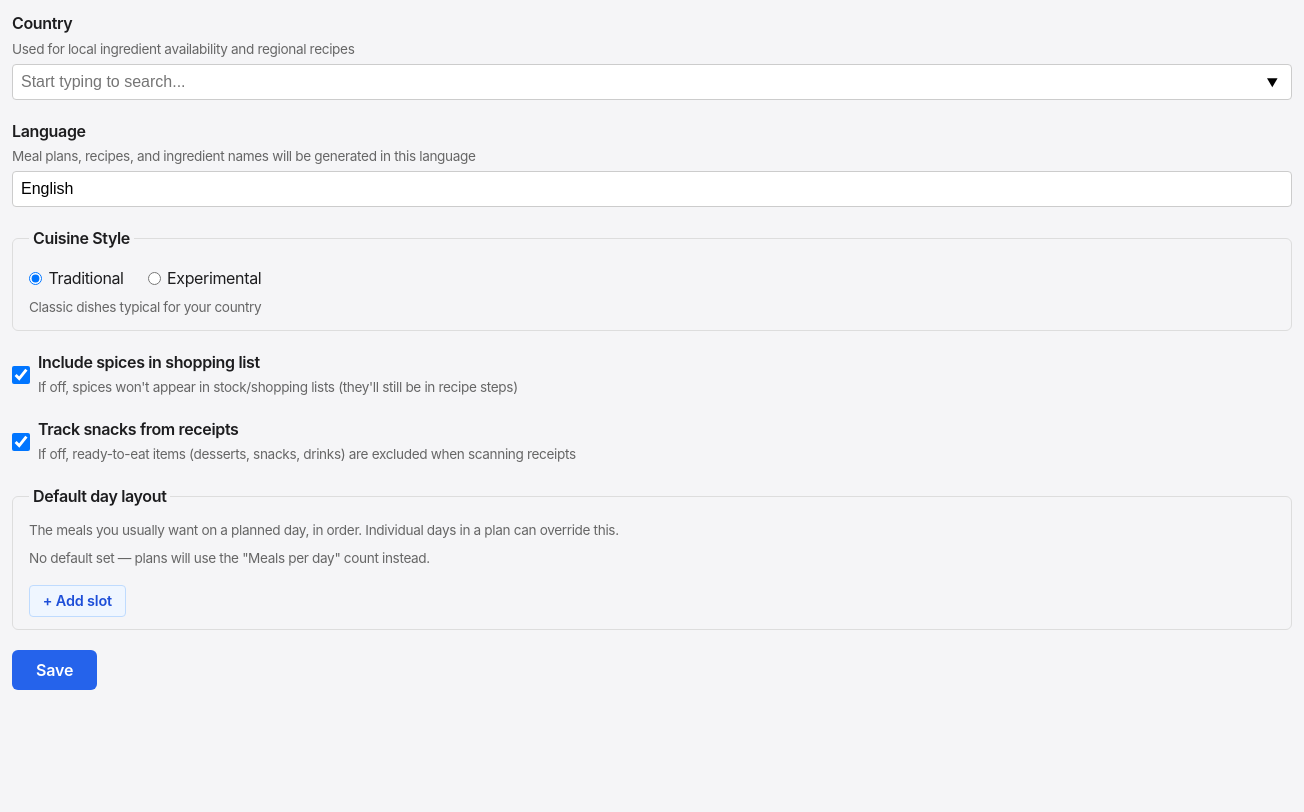
Test: PreferencesForm › Tab completes country from a prefix match
Step 1. Click the field with placeholder "Start typing to search..." → (652, 82), box [12,64,1292,100]
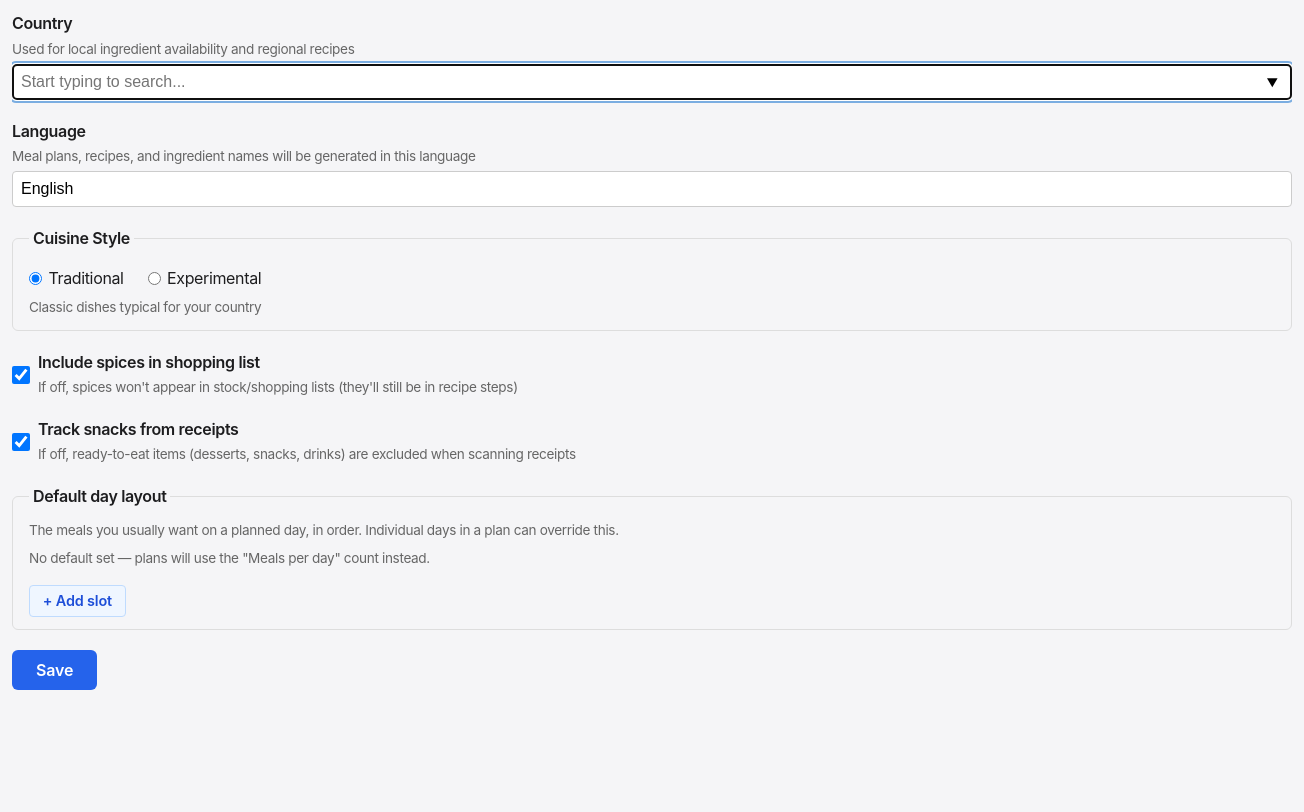
Step 2. Type keys "cz"
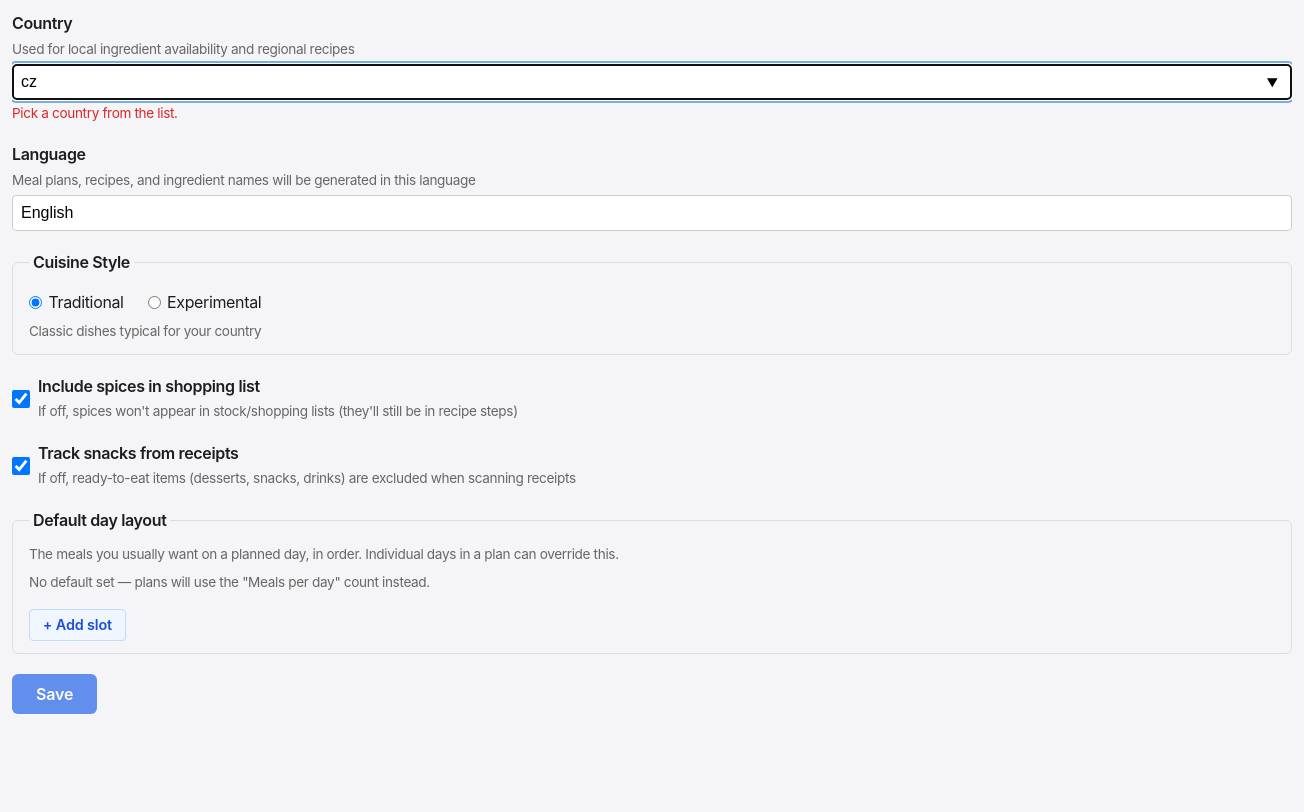
Step 3. Press Tab
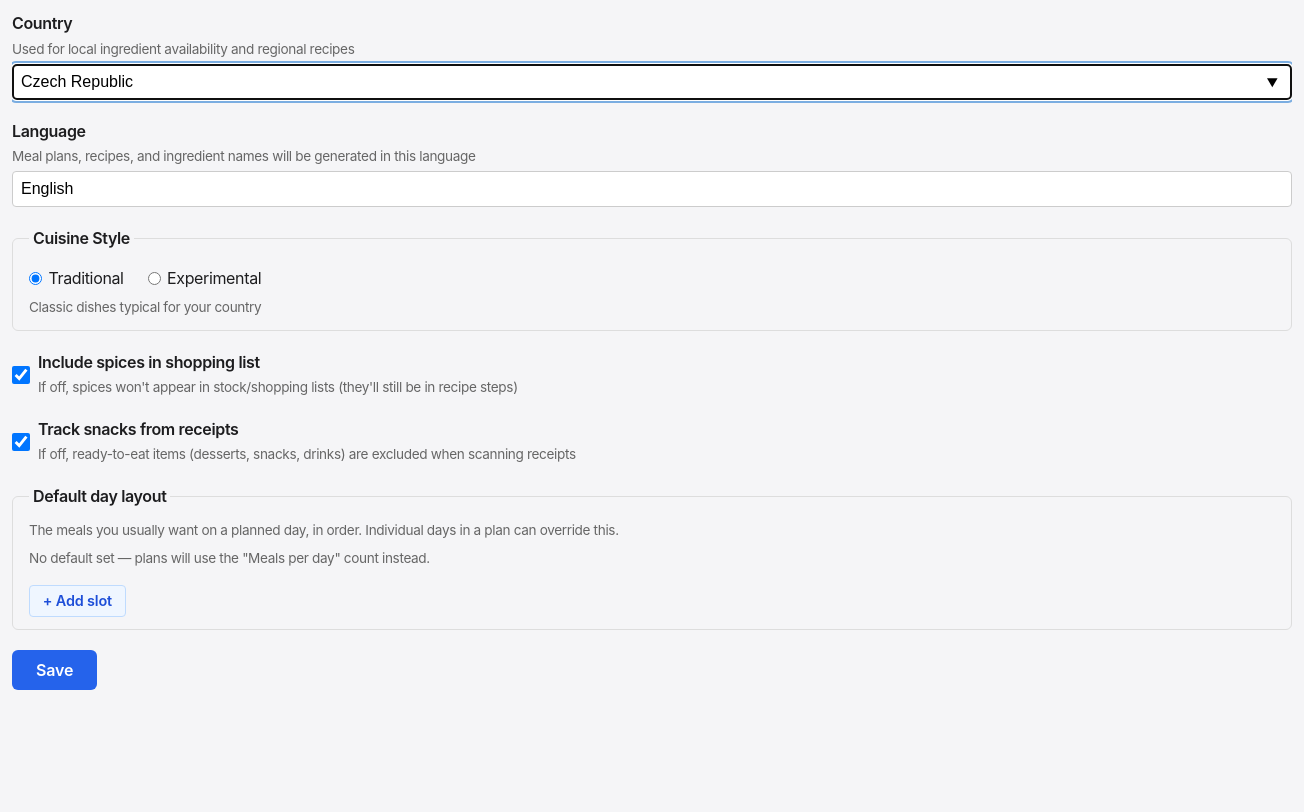
Now the field with placeholder "Start typing to search..." holds "Czech Republic", box [12,64,1292,100]
